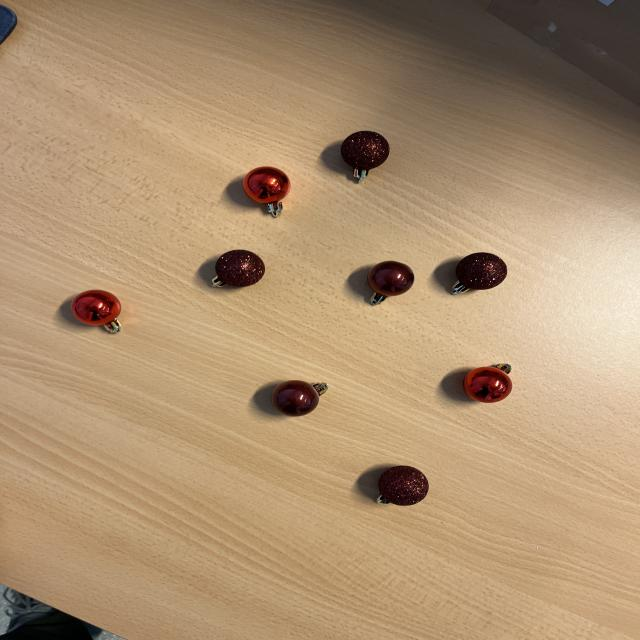glitter-bauble: (331, 128, 397, 186), (444, 246, 513, 299), (369, 462, 433, 511), (208, 245, 267, 292), (341, 131, 390, 182), (451, 252, 508, 295), (377, 466, 429, 506), (212, 250, 265, 287)
glossy-bauble: (455, 356, 522, 408), (68, 282, 128, 338), (240, 164, 294, 219), (244, 167, 290, 217), (71, 290, 121, 334)
wine-red-bauble: (262, 374, 342, 422), (360, 258, 421, 309), (271, 380, 328, 417), (368, 261, 414, 305)
